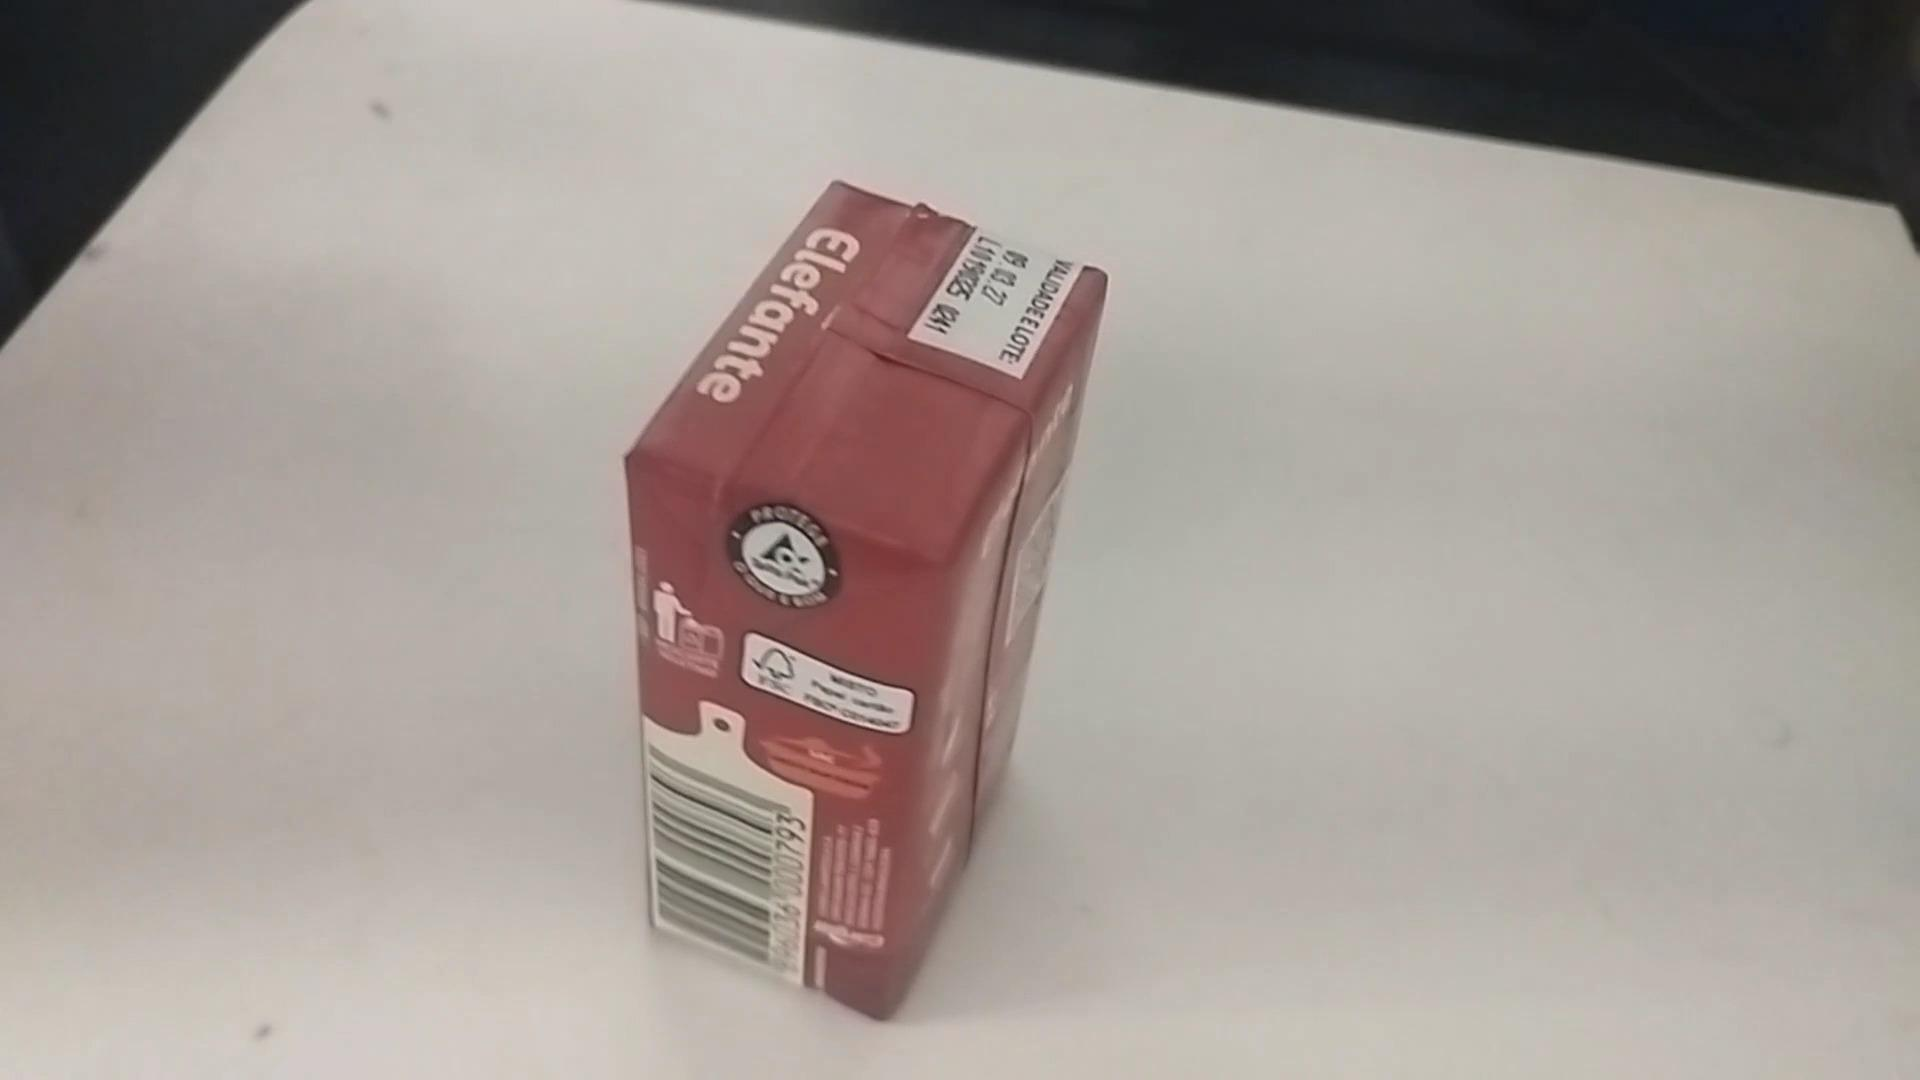tomate: (607, 161, 1134, 1025)
